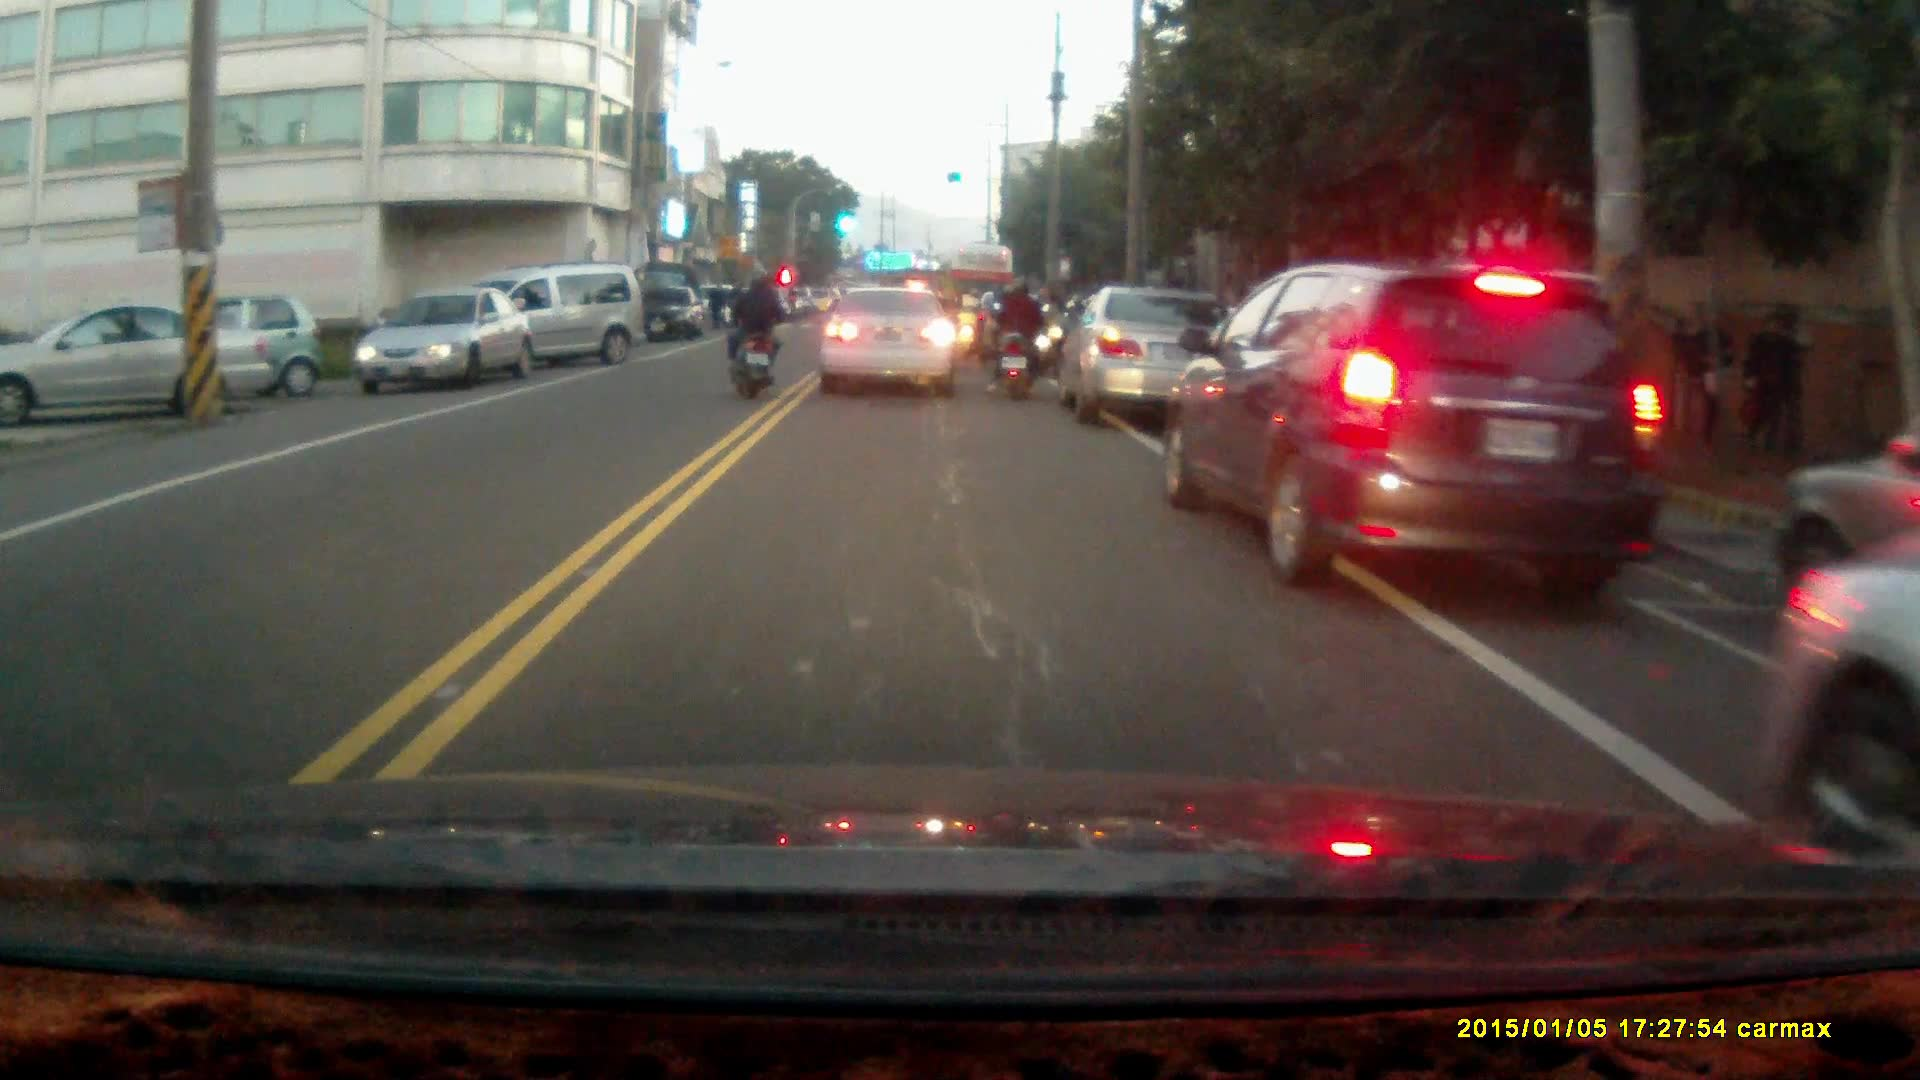pedestrian: (1737, 306, 1793, 466), (1687, 305, 1738, 458)
rider: (987, 271, 1050, 403), (722, 274, 783, 399)
vehicle: (1161, 261, 1673, 591), (1757, 544, 1920, 888), (2, 304, 269, 423), (1052, 283, 1240, 421), (92, 295, 317, 404), (446, 264, 646, 378), (357, 288, 534, 395), (815, 286, 962, 399), (636, 288, 699, 346)
